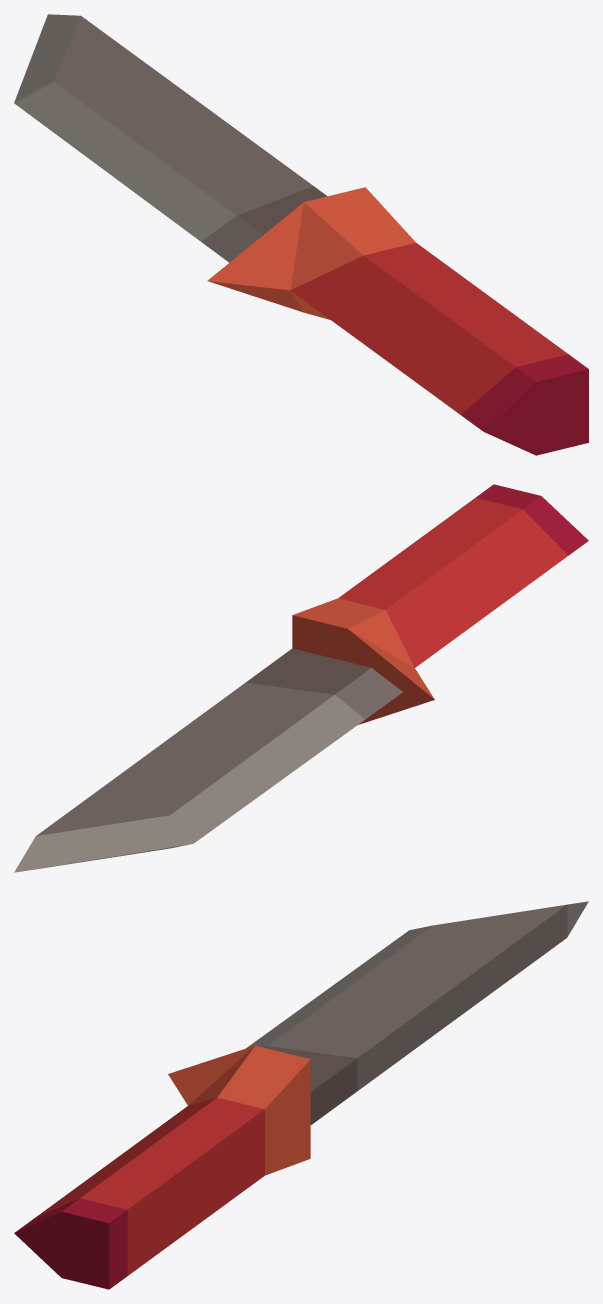
The model's file is knife.fbx.
3 views of the same model, one above another, from view 1: azimuth 30°, elevation 25°; view 2: azimuth 150°, elevation 25°; view 3: azimuth 330°, elevation 25° (orthographic). The views are drawn at different scales.
Visible parts, largest first — view 1: skaft, egg; view 2: egg, skaft; view 3: skaft, egg.
Part boxes in pixels (x1,y1,x2,y2): skaft: (207, 187, 588, 455); egg: (14, 14, 327, 262); egg: (14, 648, 402, 872); skaft: (292, 484, 588, 724); skaft: (14, 1045, 310, 1289); egg: (246, 901, 588, 1124).
Bounding box in the file's own units: 28.12 × 18.75 × 165.
Materials: 1 (1 with a texture image).
